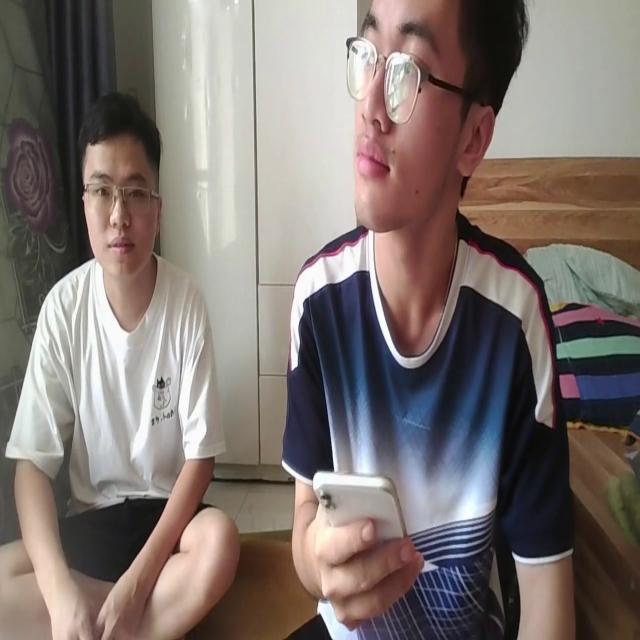extra_person: (11, 95, 238, 640)
phone: (313, 457, 410, 557)
student: (284, 0, 574, 640)
